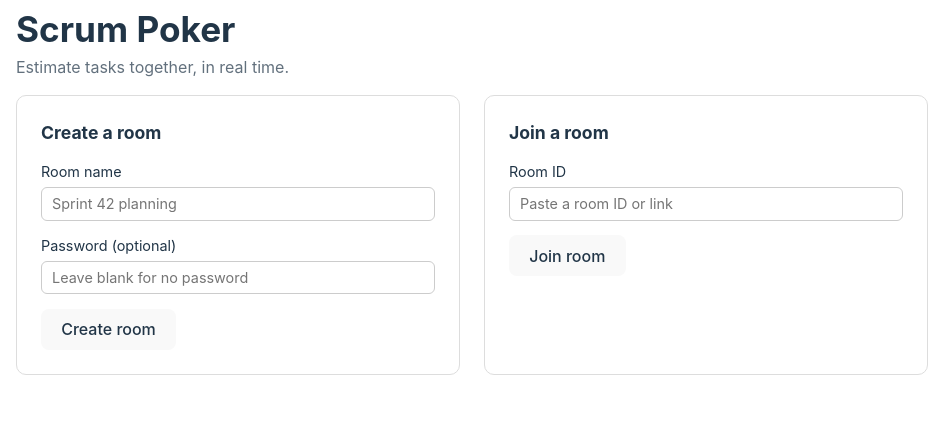
Scenario: Home › shows a fallback error message for a non-Error rejection
This screenshot has width=945, height=433.
Type "Sprint 42" into the field labelled "Room name".
click(238, 204); type("Sprint 42")  # box [41,187,435,221]
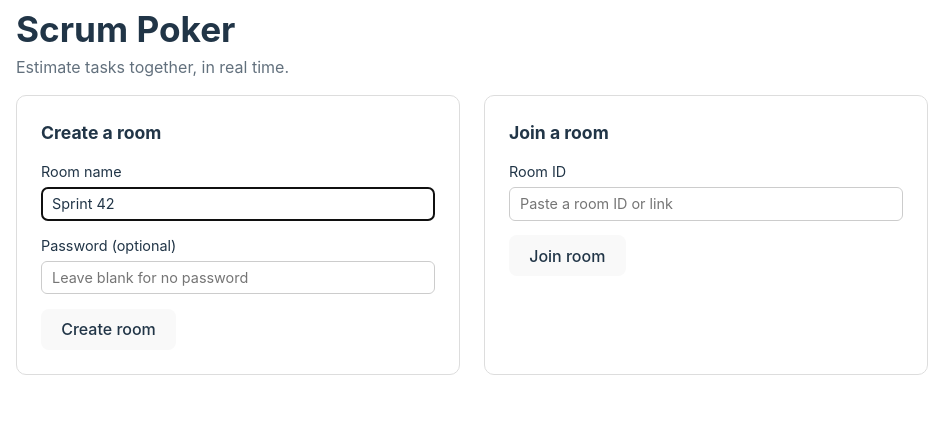
Click the button "Create room".
click(108, 329)  # box [41,309,176,350]
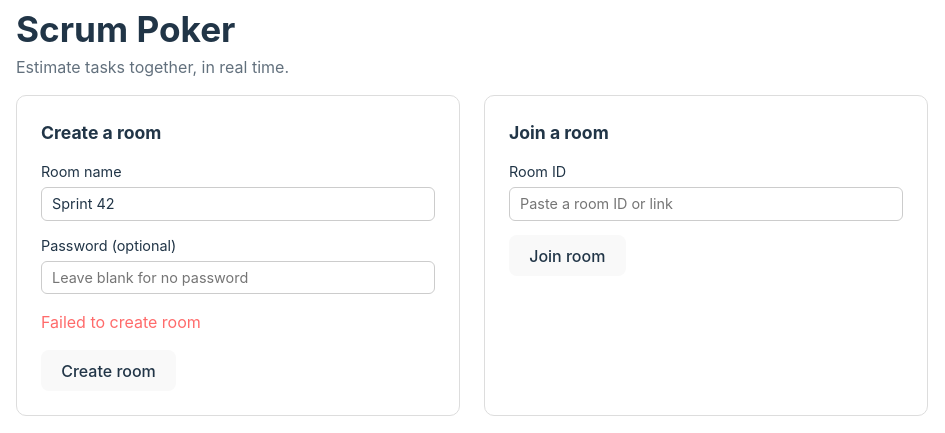
Expected: the text "Failed to create room" is shown, [41,312,201,332]
